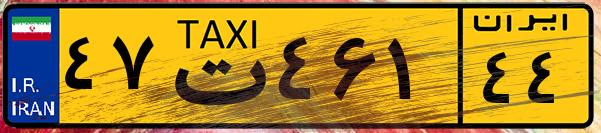1: (385, 28, 445, 110)
4: (270, 28, 330, 110), (57, 26, 110, 100), (475, 38, 525, 113), (525, 38, 570, 115)
6: (330, 28, 385, 110)
7: (110, 28, 158, 98)
ت: (158, 12, 270, 120)
